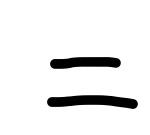eqv: (48, 57, 138, 109)
